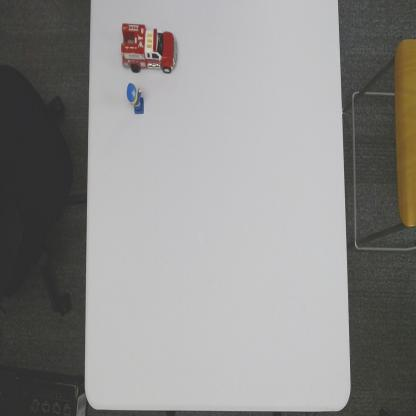Firetruck: (119, 22, 180, 74)
